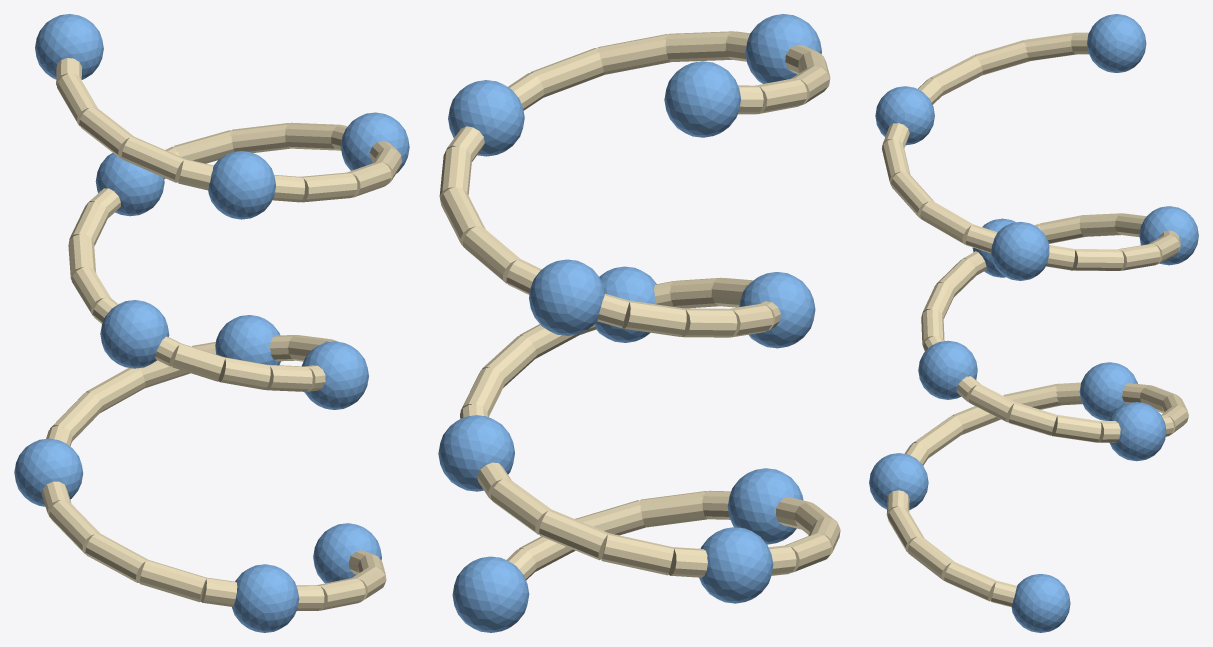
The model's file is spiral-column.glb.
3 renders of one model, left to right at view 1: azimuth 30°, elevation 25°; view 2: azimuth 150°, elevation 25°; view 3: azimuth 270°, elevation 25°, orthographic. The views are drawn at different scales.
Visible parts, largest first — view 1: spiral-column-53, spiral-column-46, spiral-column-50, spiral-column-47, spiral-column-54, spiral-column-49, spiral-column-51, spiral-column-45, spiral-column-52, spiral-column-48, spiral-column-6, spiral-column-41 (+26 smaller); view 2: spiral-column-45, spiral-column-54, spiral-column-51, spiral-column-47, spiral-column-52, spiral-column-48, spiral-column-46, spiral-column-50, spiral-column-53, spiral-column-49, spiral-column-11, spiral-column-12 (+34 smaller); view 3: spiral-column-54, spiral-column-52, spiral-column-45, spiral-column-49, spiral-column-48, spiral-column-53, spiral-column-46, spiral-column-47, spiral-column-51, spiral-column-36, spiral-column-1, spiral-column-42 (+27 smaller).
Part boxes in pixels (x1,y1,x2,y2): spiral-column-53: [208, 151, 275, 219]; spiral-column-46: [232, 564, 299, 632]; spiral-column-50: [100, 300, 169, 368]; spiral-column-47: [14, 438, 83, 506]; spiral-column-54: [35, 14, 103, 79]; spiral-column-49: [302, 341, 368, 409]; spiral-column-51: [95, 153, 164, 216]; spiral-column-45: [313, 523, 381, 583]; spiral-column-52: [340, 112, 409, 173]; spiral-column-48: [215, 315, 280, 365]; spiral-column-6: [139, 560, 206, 602]; spiral-column-41: [121, 136, 185, 182]; spiral-column-45: [452, 556, 529, 632]; spiral-column-54: [664, 61, 740, 137]; spiral-column-51: [529, 259, 604, 335]; spiral-column-47: [699, 527, 773, 603]; spiral-column-52: [448, 80, 524, 156]; spiral-column-48: [438, 415, 514, 491]; spiral-column-46: [727, 468, 803, 544]; spiral-column-50: [739, 272, 815, 348]; spiral-column-53: [745, 14, 821, 83]; spiral-column-49: [595, 266, 656, 342]; spiral-column-11: [601, 533, 673, 575]; spiral-column-12: [539, 510, 609, 560]; spiral-column-54: [1087, 14, 1146, 72]; spiral-column-52: [990, 222, 1049, 280]; spiral-column-45: [1011, 574, 1070, 632]; spiral-column-49: [918, 340, 977, 399]; spiral-column-48: [1109, 402, 1166, 461]; spiral-column-53: [875, 86, 934, 145]; spiral-column-46: [869, 453, 928, 509]; spiral-column-47: [1079, 362, 1137, 420]; spiral-column-51: [1139, 206, 1198, 265]; spiral-column-36: [920, 201, 973, 244]; spiral-column-1: [944, 562, 996, 601]; spiral-column-42: [975, 40, 1029, 75].
Bounding box in the file's own units: 1.34 × 2.29 × 1.33.
